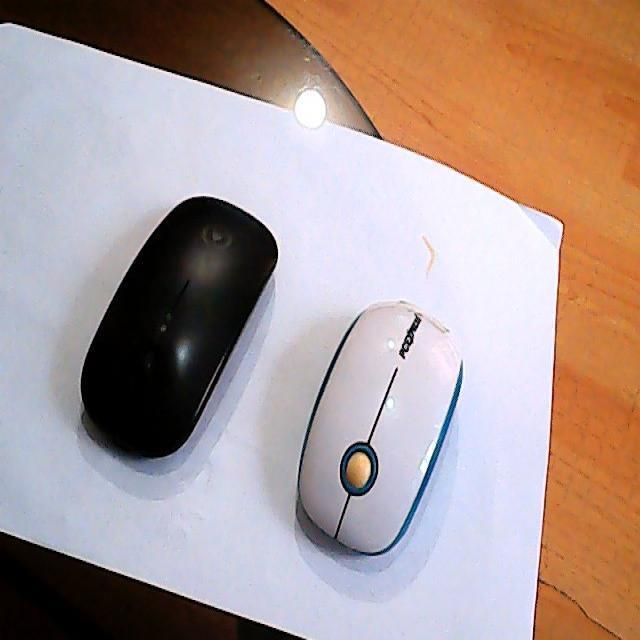Mouse: (80, 191, 280, 460), (298, 296, 464, 558)
